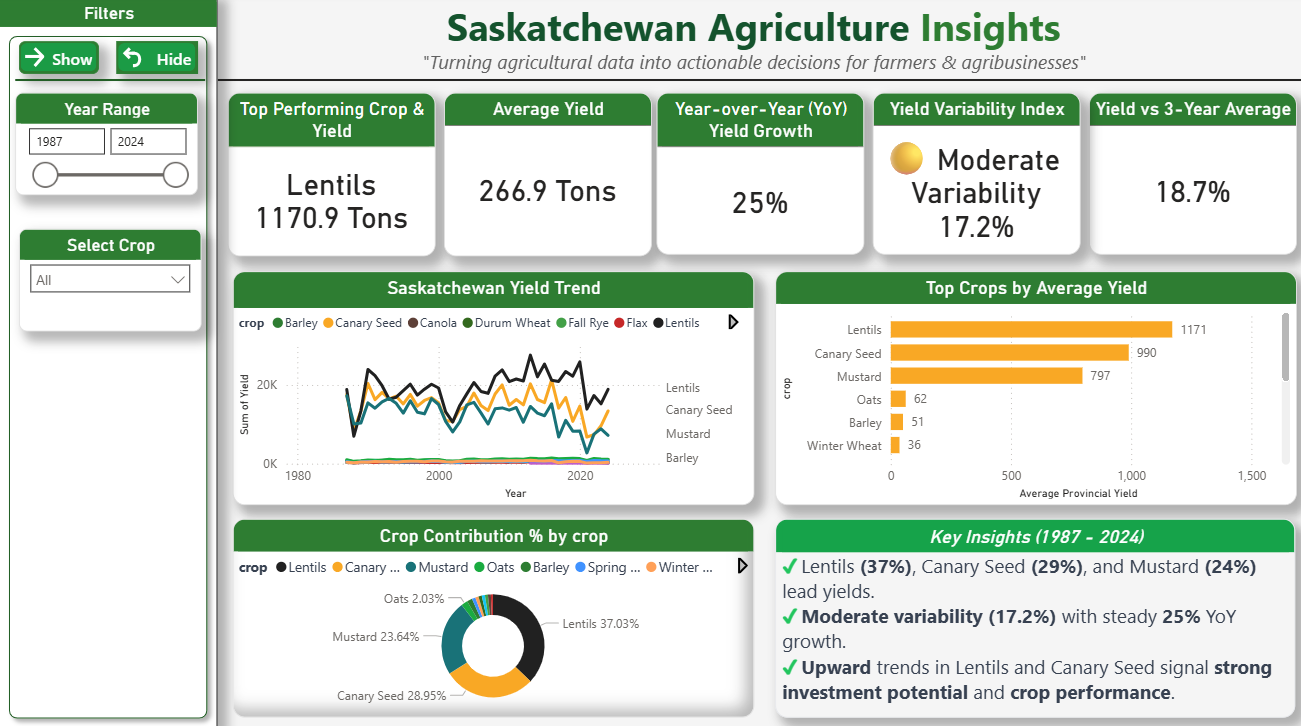

The page's visual inventory and layout, read from the dashboard file:
{"tool":"powerbi","page":{"name":"Saskatchewan Agriculture Dashboard","canvas":[1280,720],"ordinal":0},"visuals":[{"type":"group","id":"g1","title":"Group 1","box":[0,0,214.7,720.2],"z":0},{"type":"textbox","box":[240.2,0,1007,72.8],"z":0,"group":"g2"},{"type":"actionButton","box":[19.6,45.4,78.5,31.9],"z":1000},{"type":"textbox","box":[214.7,47.7,1058.9,41.6],"z":1000,"group":"g2"},{"type":"actionButton","box":[115.3,45.4,79.8,31.9],"z":2000},{"type":"shape","box":[220.8,77,1058.9,12.2],"z":2000,"group":"g2"},{"type":"group","id":"g2","title":"Group 2","box":[214.7,0,1065,706.5],"z":3000},{"type":"card","title":"Top Performing Crop & Yield","fields":{"Values":["historical_actual_crop_yield_by_CAR.Top Performing Crop"]},"box":[230.6,95.3,202.5,160.1],"z":3000,"group":"g2"},{"type":"shape","box":[181.6,0,66.3,720.2],"z":4000},{"type":"card","title":"Average Yield ","fields":{"Values":["historical_actual_crop_yield_by_CAR.Average Provincial Yield"]},"box":[441.6,95.3,202.5,160.1],"z":4000,"group":"g2"},{"type":"card","title":"Yield vs 3-Year Average","fields":{"Values":["historical_actual_crop_yield_by_CAR.Regional Yield Rank"]},"box":[1071.1,95.3,202.5,158.9],"z":5000,"group":"g2"},{"type":"card","title":"Year-over-Year (YoY) Yield Growth","fields":{"Values":["historical_actual_crop_yield_by_CAR.YoY Yield Growth %"]},"box":[649,95.3,202.5,158.9],"z":6000,"group":"g2"},{"type":"card","title":"Yield Variability Index","fields":{"Values":["historical_actual_crop_yield_by_CAR.Provincial vs National Yield"]},"box":[860,95.3,202.5,158.9],"z":7000,"group":"g2"},{"type":"lineChart","title":"Saskatchewan Yield Trend","fields":{"Category":["historical_actual_crop_yield_by_CAR.Year"],"Y":["Sum(historical_actual_crop_yield_by_CAR.Yield)"],"Series":["historical_actual_crop_yield_by_CAR.crop"]},"box":[235.4,270.1,508.7,228.6],"z":8000,"group":"g2"},{"type":"barChart","title":"Top Crops by Average Yield","fields":{"Category":["historical_actual_crop_yield_by_CAR.crop"],"Y":["historical_actual_crop_yield_by_CAR.Average Provincial Yield"]},"box":[764.9,270.1,508.7,228.6],"z":9000,"group":"g2"},{"type":"textbox","title":"Key Insights (1987 - 2024)","box":[764.9,512.2,507.5,194.4],"z":10000,"group":"g2"},{"type":"shape","title":"Filters","box":[0,0,214.7,720.2],"z":11000,"group":"g1"},{"type":"donutChart","fields":{"Category":["historical_actual_crop_yield_by_CAR.crop"],"Y":["historical_actual_crop_yield_by_CAR.Crop Contribution %"]},"box":[235.4,512.2,508.7,194.4],"z":15000,"group":"g2"},{"type":"slicer","title":"Year Range","fields":{"Values":["historical_actual_crop_yield_by_CAR.Year"]},"box":[16,95.7,179.1,100.6],"z":15500,"group":"g1"},{"type":"shape","box":[16,77.3,186.5,12.3],"z":16000,"group":"g1"},{"type":"slicer","title":"Select Crop","fields":{"Values":["historical_actual_crop_yield_by_CAR.crop"]},"box":[19.6,229.4,179.1,100.6],"z":16500,"group":"g1"}]}

Visuals, with their boxes in screenshot pixels (x1, y1, x2, y2), scaled from the page's 1280x720 canvas onto the 1301x726 screenshot:
"Group 1" group: select_region(0, 0, 218, 725)
textbox: select_region(244, 0, 1268, 73)
actionButton: select_region(20, 46, 100, 78)
textbox: select_region(218, 48, 1294, 90)
actionButton: select_region(117, 46, 198, 78)
shape: select_region(224, 78, 1300, 90)
"Group 2" group: select_region(218, 0, 1300, 712)
"Top Performing Crop & Yield" card: select_region(234, 96, 440, 258)
shape: select_region(185, 0, 252, 725)
"Average Yield " card: select_region(449, 96, 655, 258)
"Yield vs 3-Year Average" card: select_region(1089, 96, 1294, 256)
"Year-over-Year (YoY) Yield Growth" card: select_region(660, 96, 865, 256)
"Yield Variability Index" card: select_region(874, 96, 1080, 256)
"Saskatchewan Yield Trend" lineChart: select_region(239, 272, 756, 503)
"Top Crops by Average Yield" barChart: select_region(777, 272, 1294, 503)
"Key Insights (1987 - 2024)" textbox: select_region(777, 516, 1293, 712)
"Filters" shape: select_region(0, 0, 218, 725)
donutChart - historical_actual_crop_yield_by_CAR.crop x historical_actual_crop_yield_by_CAR.Crop Contribution %: select_region(239, 516, 756, 712)
"Year Range" slicer: select_region(16, 96, 198, 198)
shape: select_region(16, 78, 206, 90)
"Select Crop" slicer: select_region(20, 231, 202, 333)
